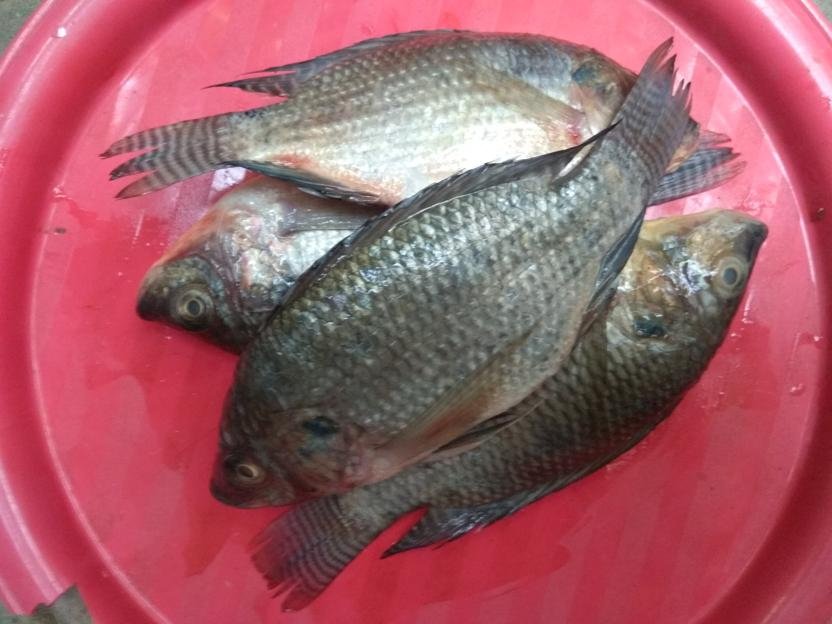Fish head: (134, 207, 298, 356), (612, 206, 772, 353), (209, 383, 369, 512)
Fish tail: (247, 494, 393, 616), (594, 36, 696, 204), (99, 110, 247, 203), (649, 126, 749, 206)
